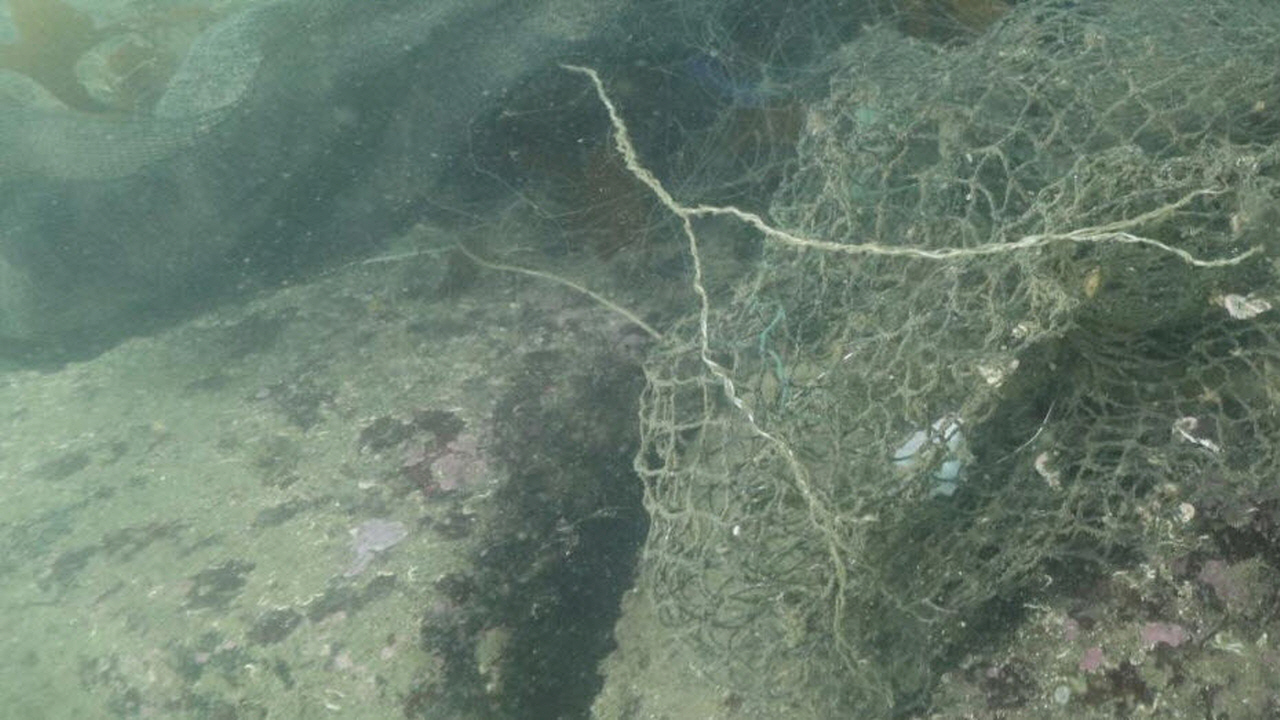fish net: (634, 0, 1280, 720)
